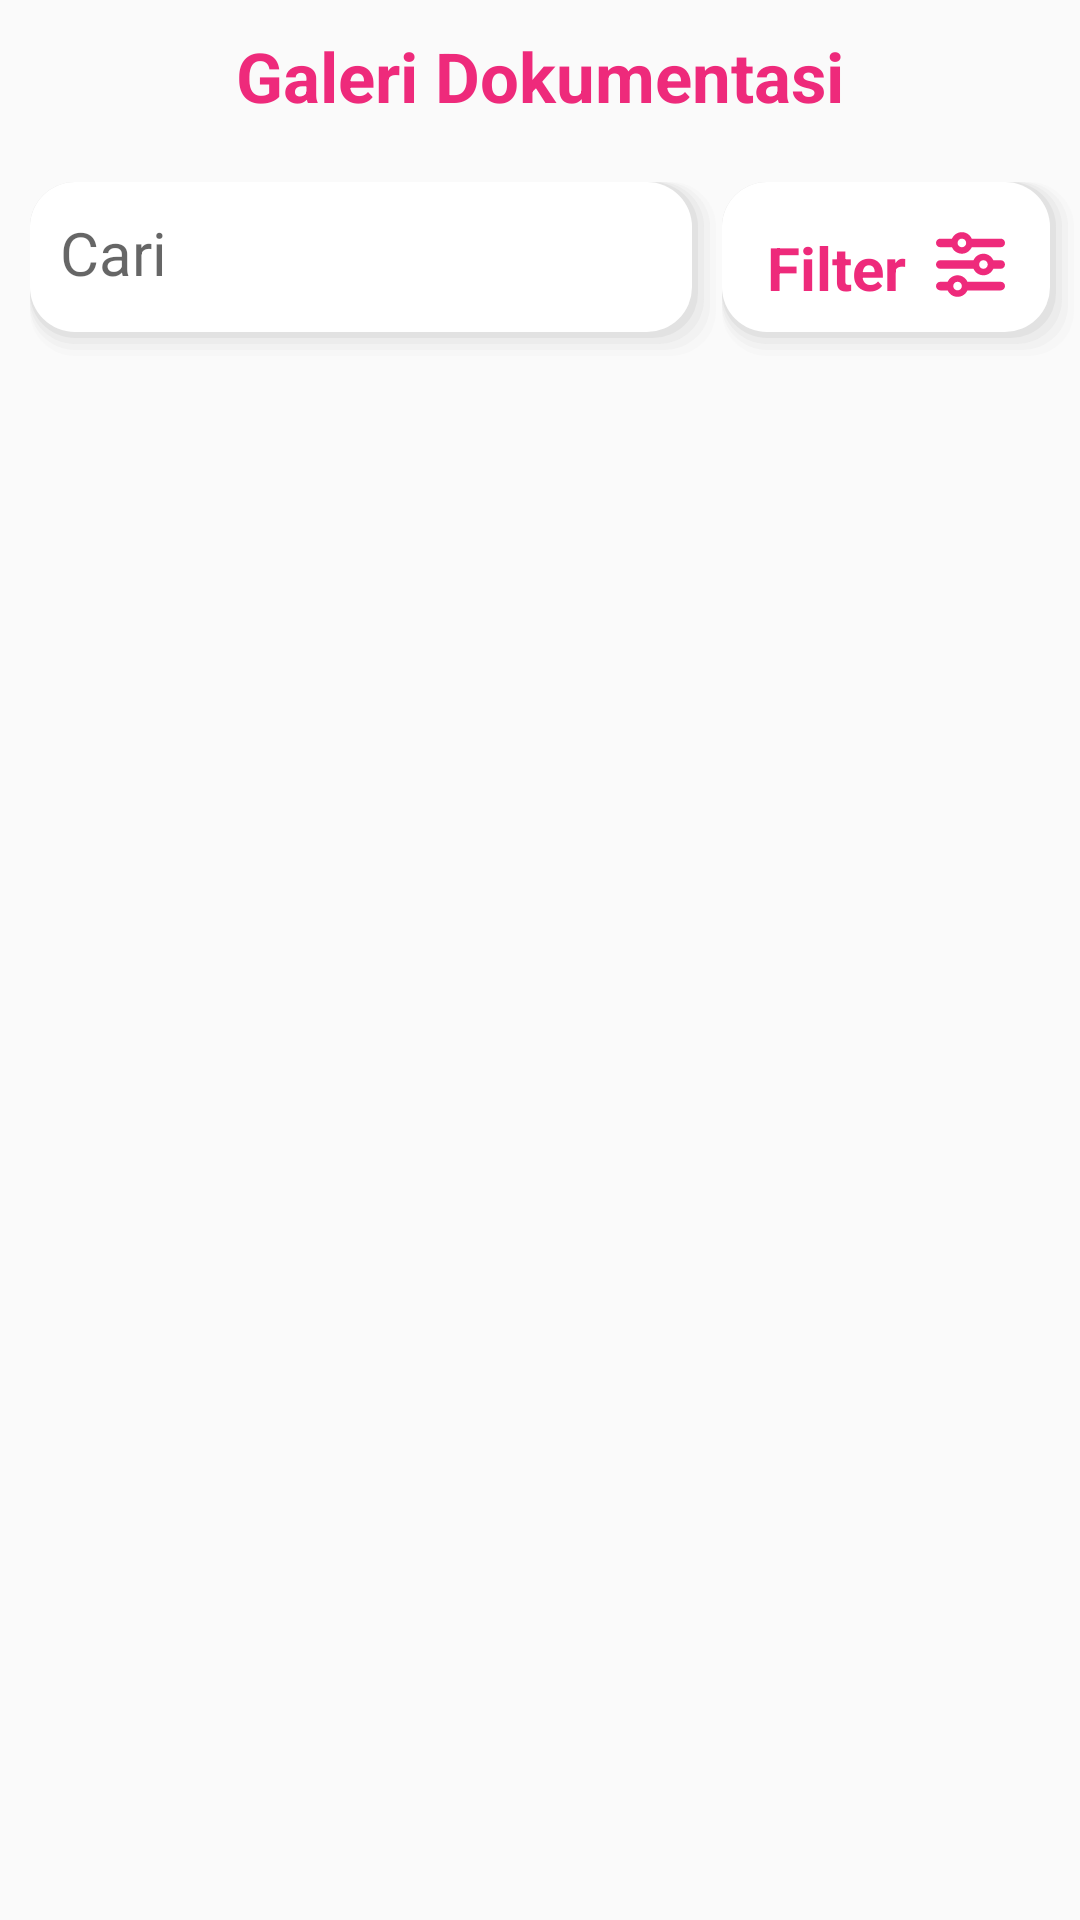

Icons on this 1080x1920 Android screen, each with the point to tap as point (x, y):
sliders: point (970, 264)
